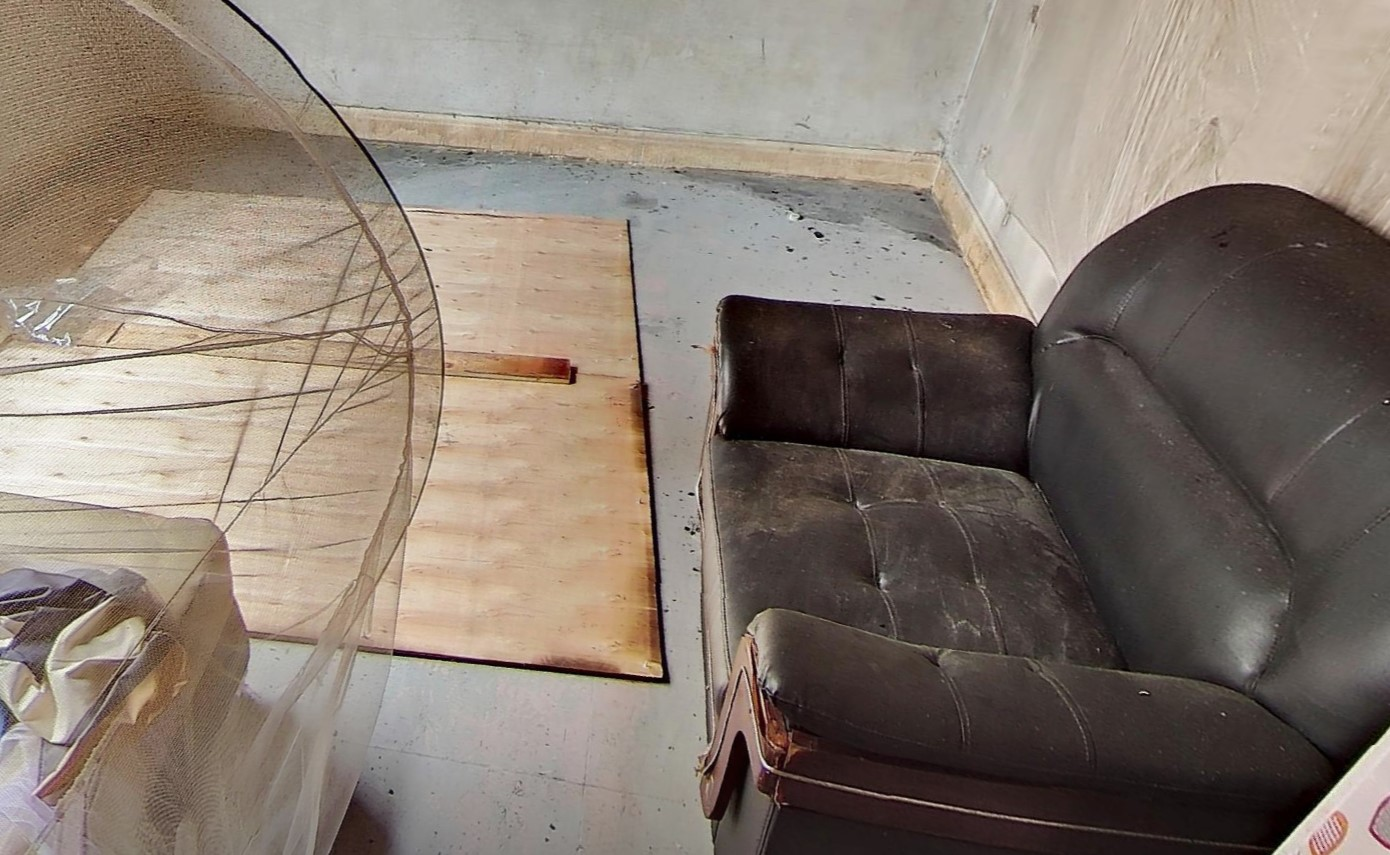Damage_level1: (1004, 7, 1328, 197), (583, 8, 963, 118), (6, 33, 232, 205), (549, 373, 668, 673)
